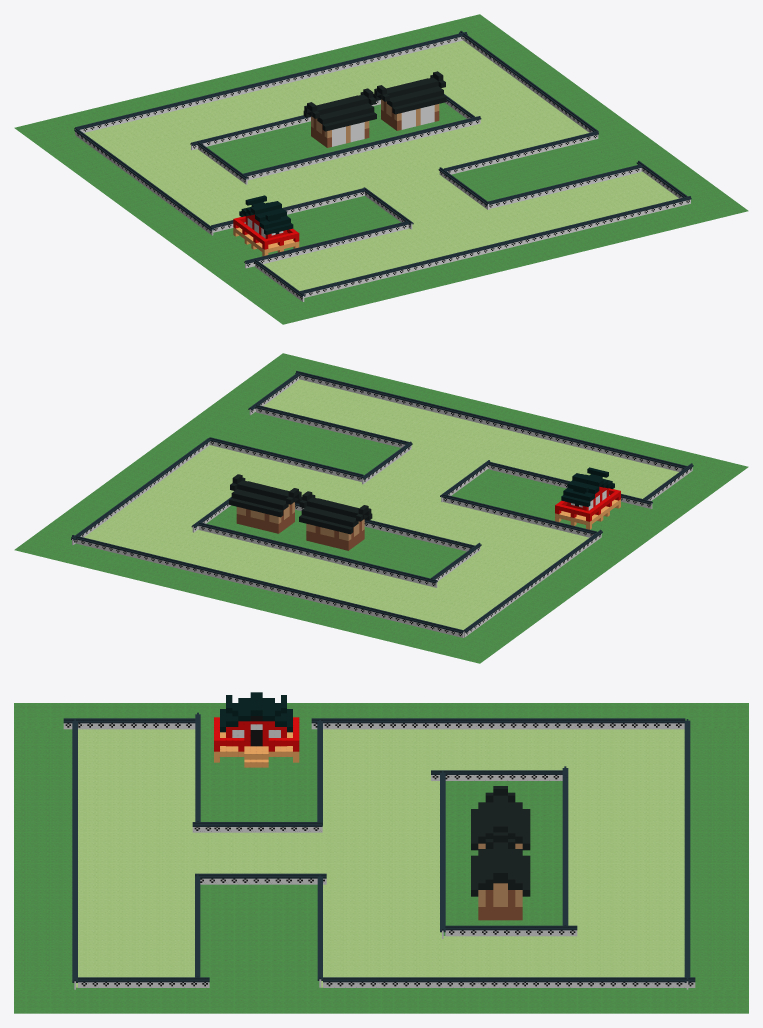
The model's file is Map13.fbx.
3 renders of one model, top to bottom at view 1: azimuth 30°, elevation 25°; view 2: azimuth 150°, elevation 25°; view 3: azimuth 270°, elevation 25°, orthographic. The views are drawn at different scales.
Parts seen in each view (by area): view 1: pPlane1, Wall132, Wall178, House2, House3, Shrine; view 2: pPlane1, Wall132, Wall178, House2, House3, Shrine; view 3: pPlane1, Wall132, Shrine, Wall178, House3, House2.
Part boxes in pixels (x1,y1,x2,y2): pPlane1: [14, 14, 748, 324]; Wall132: [74, 30, 691, 301]; Wall178: [190, 94, 481, 184]; House2: [303, 88, 376, 147]; House3: [373, 71, 446, 130]; Shrine: [233, 195, 299, 256]; pPlane1: [14, 353, 748, 663]; Wall132: [71, 371, 693, 637]; Wall178: [191, 497, 481, 587]; House2: [299, 491, 372, 550]; House3: [229, 474, 302, 533]; Shrine: [555, 467, 620, 529]; pPlane1: [14, 703, 748, 1013]; Wall132: [63, 712, 695, 989]; Shrine: [214, 692, 299, 767]; Wall178: [431, 766, 577, 938]; House3: [471, 832, 530, 920]; House2: [471, 786, 530, 850].
Size of the model in its own units: 60 by 4.83 by 60.
